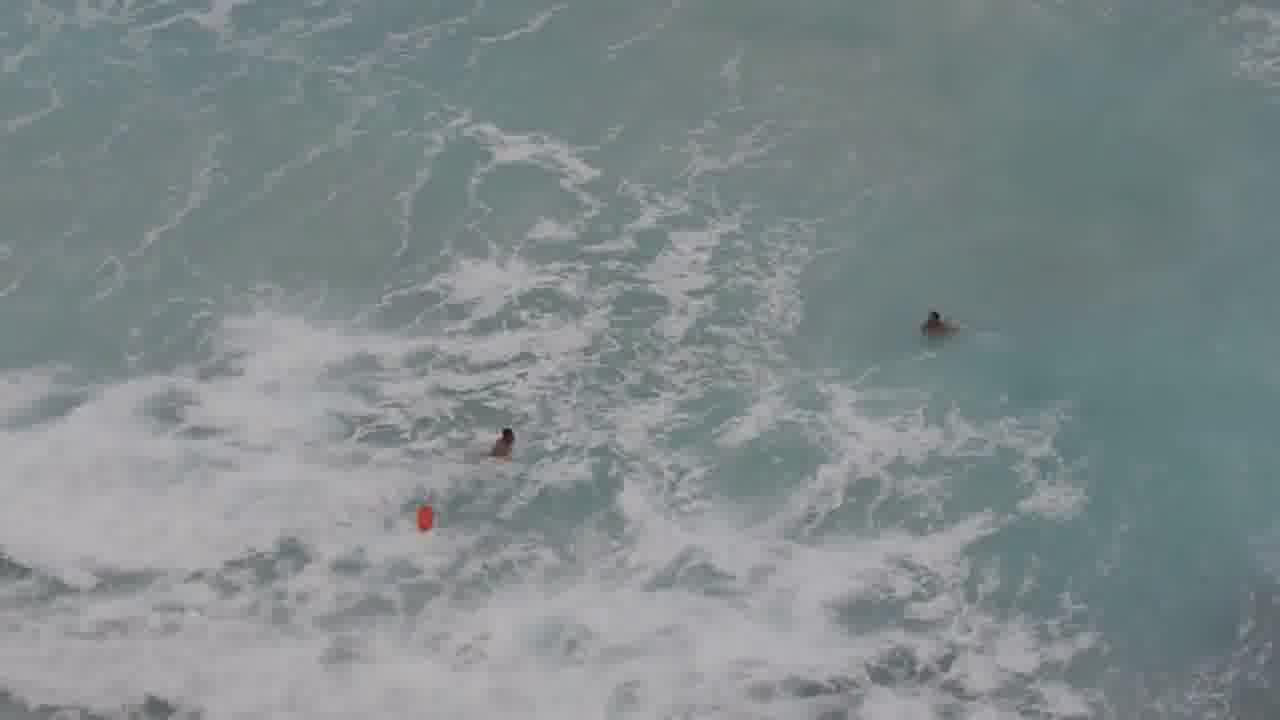human: (912, 300, 964, 342), (485, 428, 525, 464)
